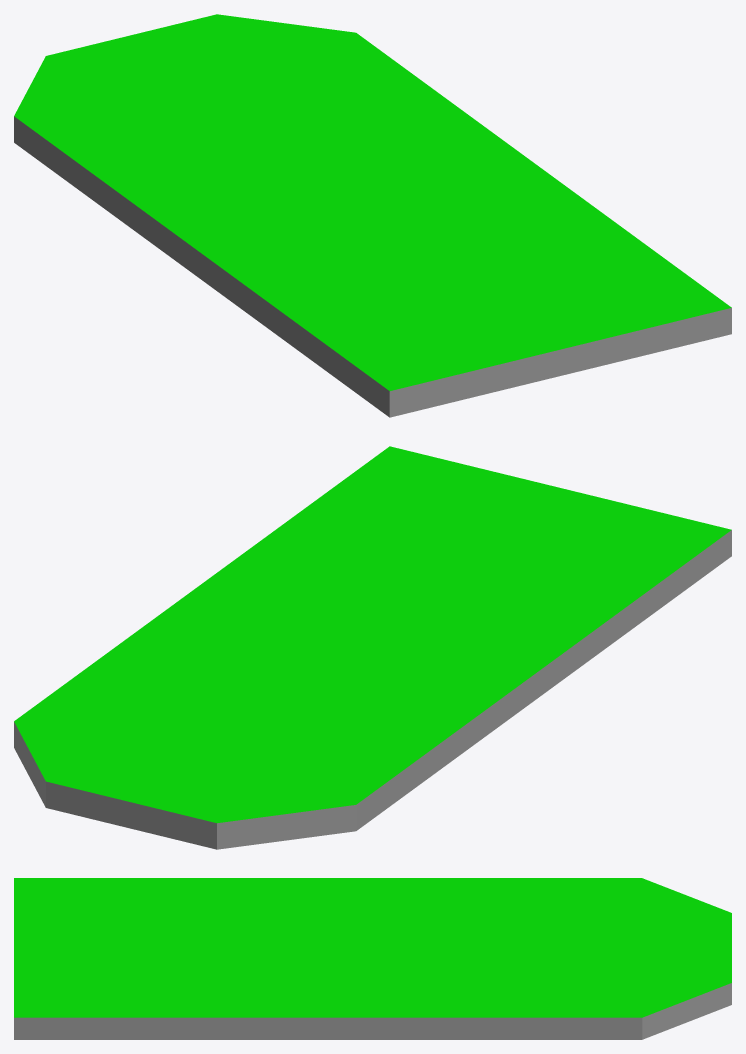
Rendered from Bridge_Lift.fbx.
3 views of the same model, one above another, from view 1: azimuth 30°, elevation 25°; view 2: azimuth 150°, elevation 25°; view 3: azimuth 270°, elevation 25° (orthographic). The views are drawn at different scales.
Visible parts, largest first — view 1: Bridge_Lift; view 2: Bridge_Lift; view 3: Bridge_Lift.
Boxes of the visible parts, x1,y1,x2,y2 form: Bridge_Lift: (14,14,731,417); Bridge_Lift: (14,446,731,849); Bridge_Lift: (14,878,731,1039).
Size of the model in its own units: 677 by 50 by 1472.
